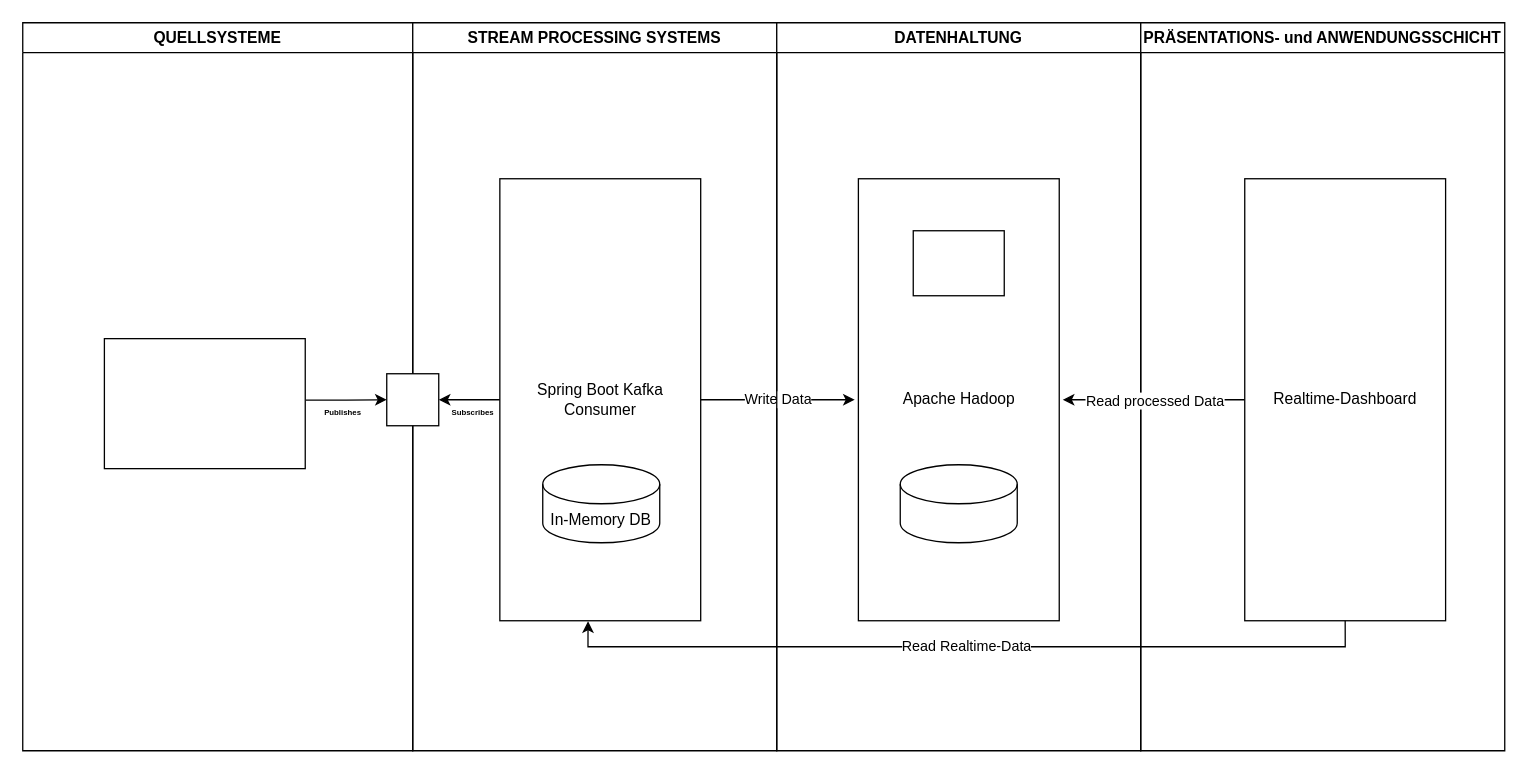
Image size: 1528x774. Some labels were removed from this diagram. The shapes that lost their labels are listed below. From the top down, each one's centre as x and y in pixels, then its label:
At point 958,262: "MapReduce-Jobs".
At point 204,403: "Temperatursensor".
At point 412,399: "Kafka Topic".
At point 958,503: "Storage System".
